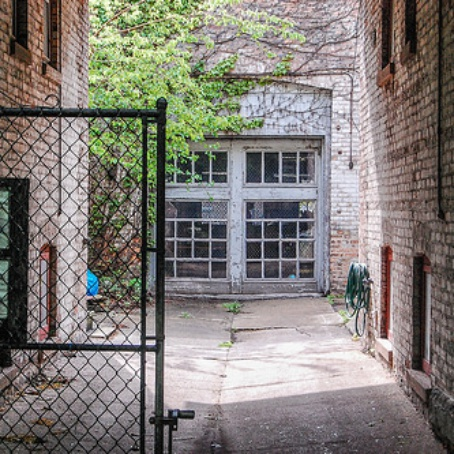building: (357, 1, 454, 454), (1, 7, 123, 351)
door: (159, 140, 325, 287)
tree: (82, 1, 265, 281)
